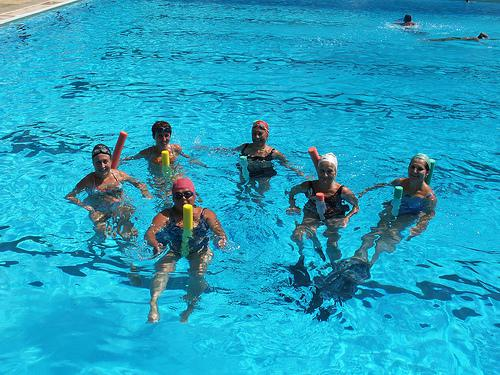human: (148, 178, 222, 324), (361, 153, 440, 262), (66, 144, 152, 231), (288, 149, 356, 258), (237, 119, 278, 190), (140, 120, 186, 174)
